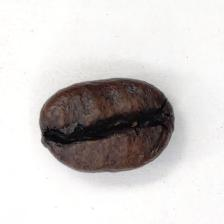NG: (53, 95, 167, 158)
